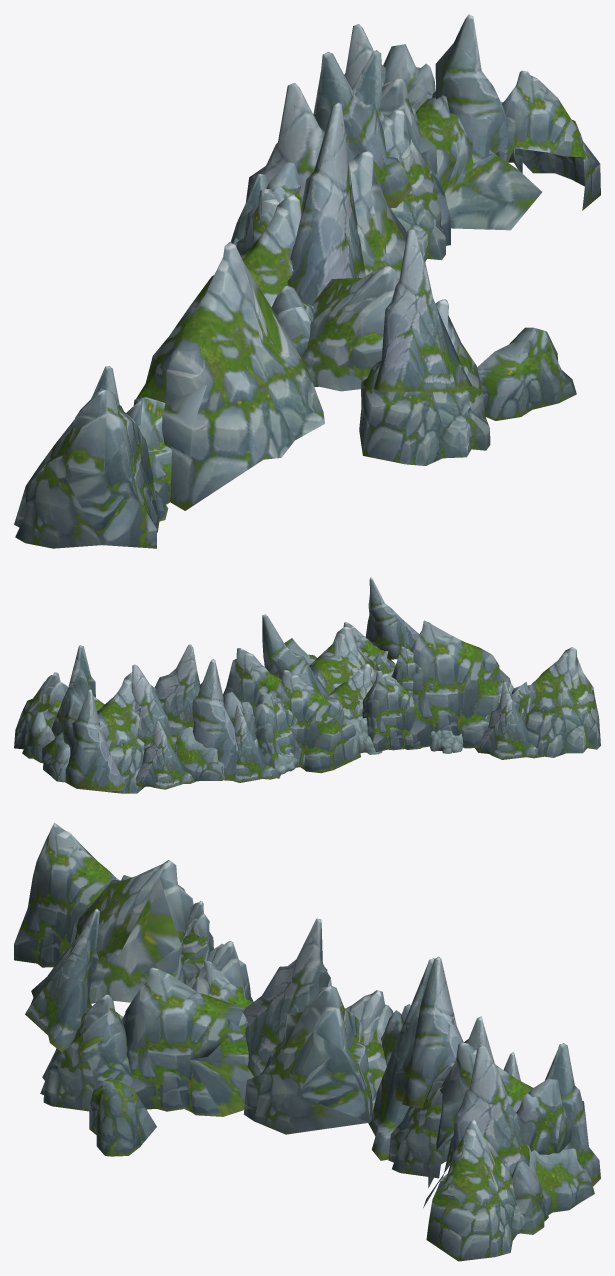
The model's file is yanshi4_1.fbx.
3 renders of one model, top to bottom at view 1: azimuth 30°, elevation 25°; view 2: azimuth 150°, elevation 25°; view 3: azimuth 270°, elevation 25°, orthographic. The views are drawn at different scales.
Parts seen in each view (by area): view 1: yanshi4_1; view 2: yanshi4_1; view 3: yanshi4_1.
Boxes of the visible parts, bbox=[...] form: yanshi4_1: bbox=[14, 14, 600, 548]; yanshi4_1: bbox=[14, 577, 600, 793]; yanshi4_1: bbox=[14, 822, 600, 1261].
Size of the model in its own units: 7191 by 2042 by 5397.
